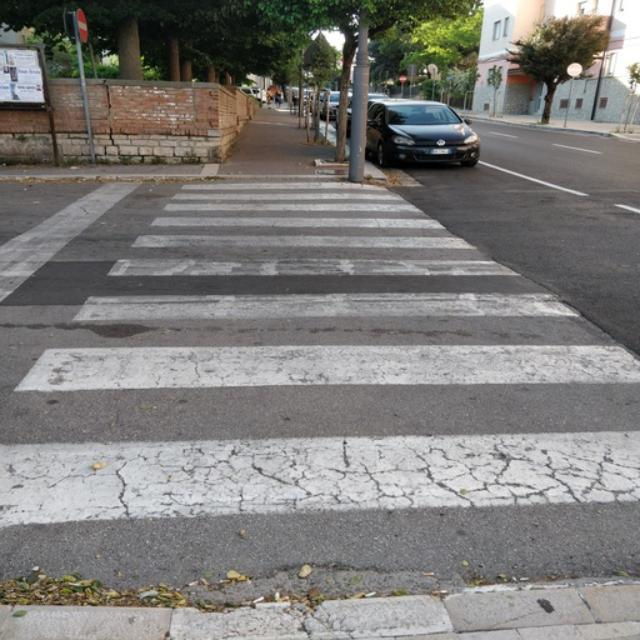sidewalk: (4, 151, 640, 640)
